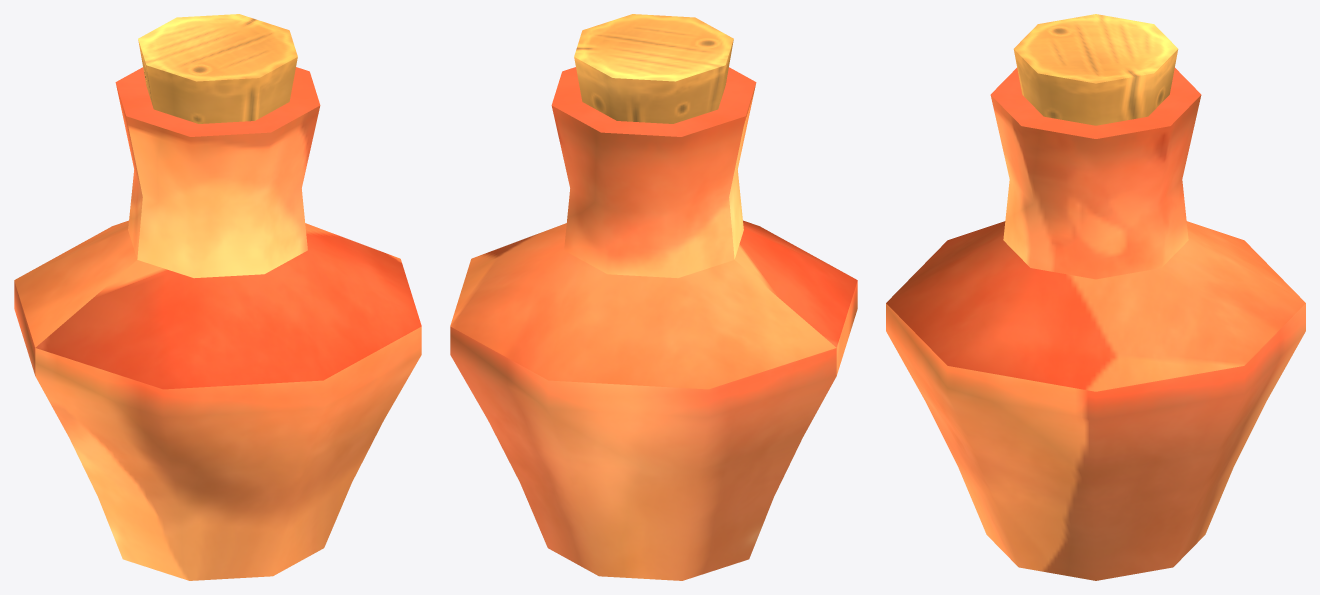
Rendered from SM_Stylized_Potion_D.fbx.
3 renders of one model, left to right at view 1: azimuth 30°, elevation 25°; view 2: azimuth 150°, elevation 25°; view 3: azimuth 270°, elevation 25°, orthographic.
Visible parts, largest first — view 1: SM_Stylized_Potion_D_LOD0; view 2: SM_Stylized_Potion_D_LOD0; view 3: SM_Stylized_Potion_D_LOD0.
Boxes of the visible parts, left/top/right/bottom form: SM_Stylized_Potion_D_LOD0: left=14, top=14, right=421, bottom=580; SM_Stylized_Potion_D_LOD0: left=450, top=14, right=857, bottom=580; SM_Stylized_Potion_D_LOD0: left=886, top=14, right=1305, bottom=580.
Bounding box in the file's own units: 8.49 × 8.49 × 10.85.
